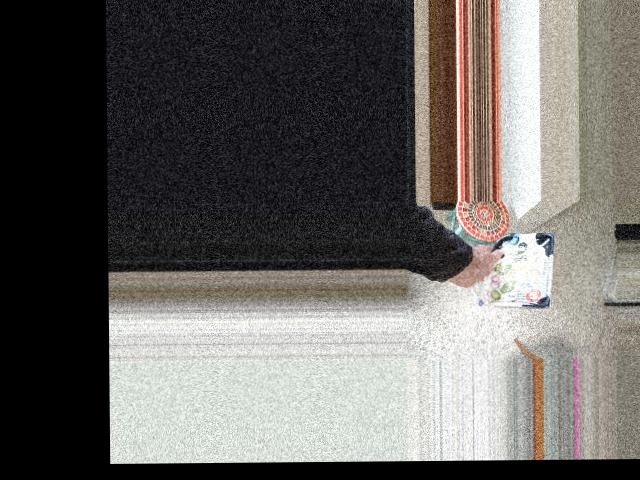cheese: (454, 223, 551, 318)
